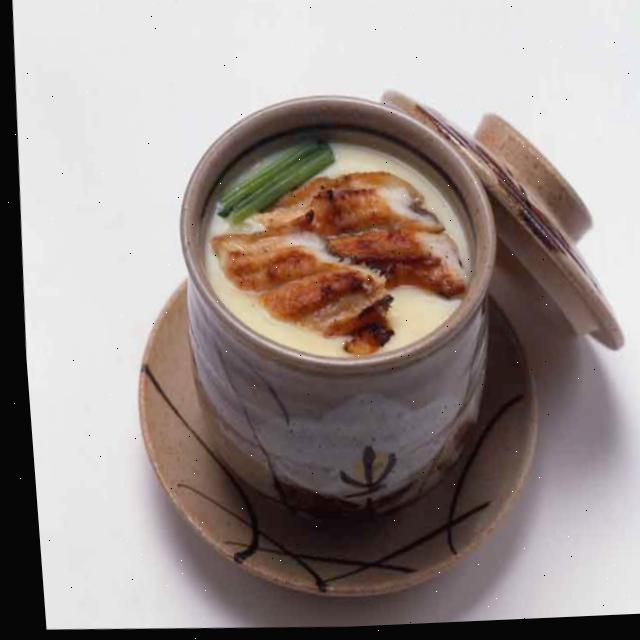鸡蛋料理: (155, 50, 517, 579)
